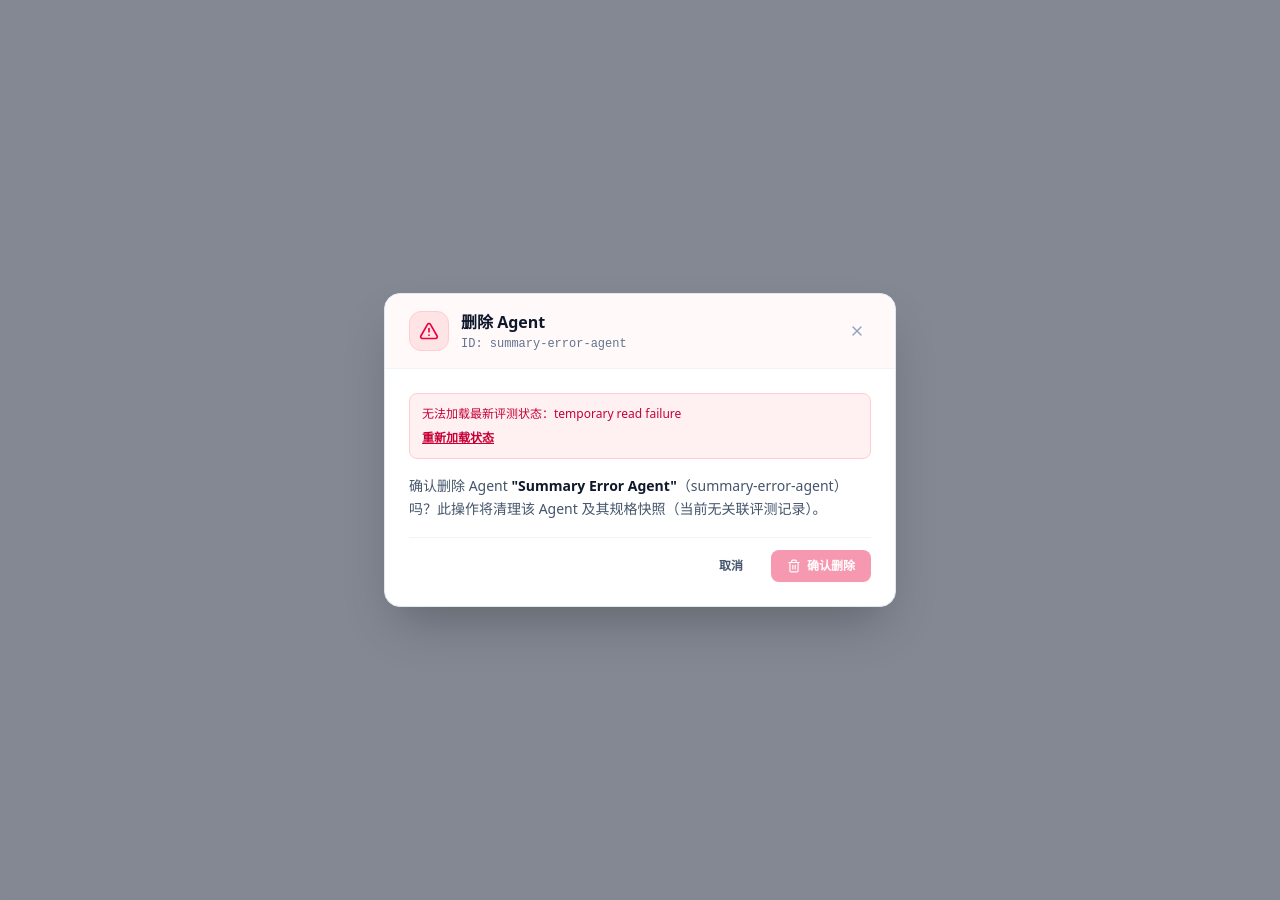
Test case: DeleteAgentModal UX and Strong Name Verification Flow › blocks deletion when the latest summary cannot be loaded and permits retry
Check: the message shows "temporary read failure", box [554,405,681,422]
Check: the button "确认删除" is disabled, box [771,550,871,582]
Click the button "重新加载状态": (458, 438) [422,430,494,446]
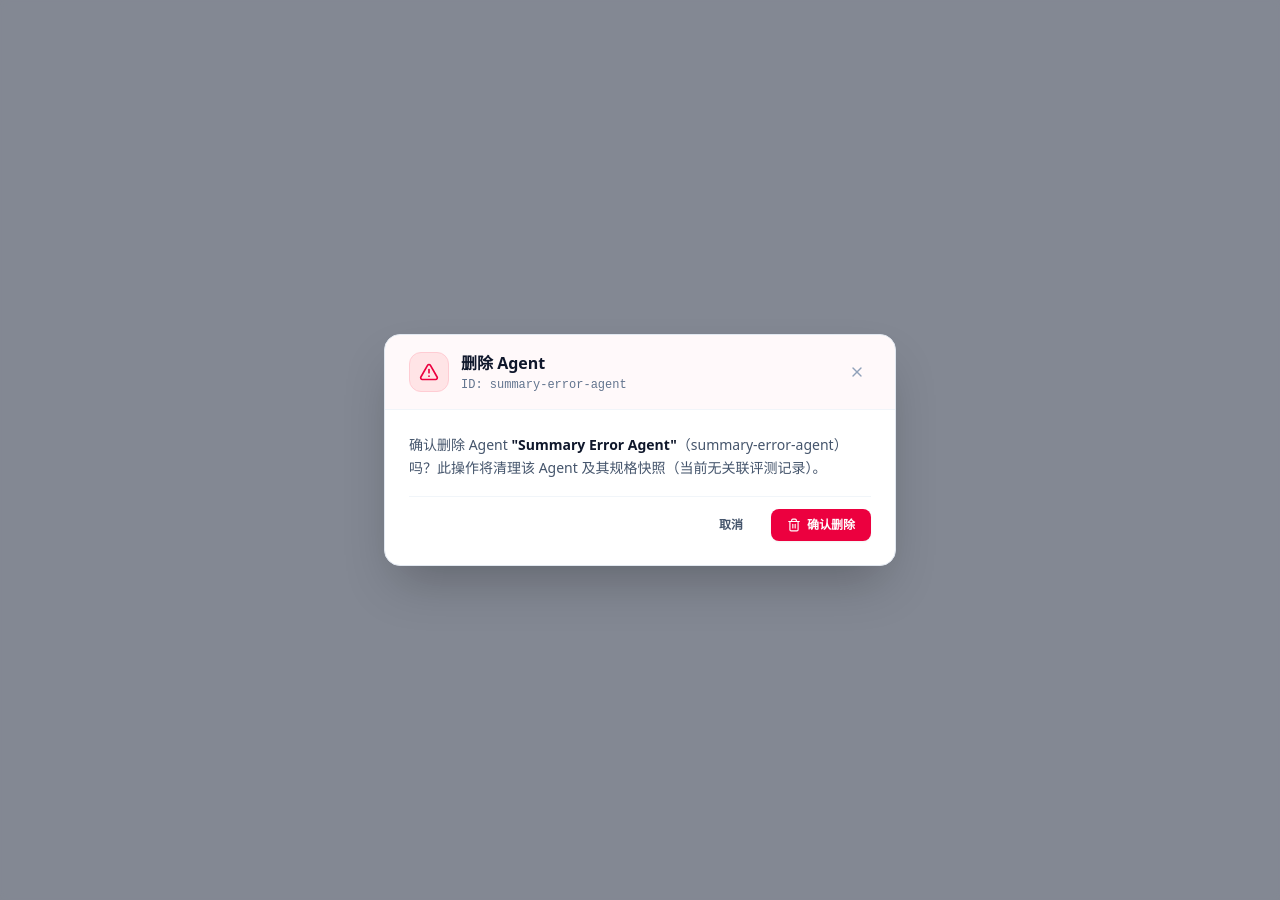
Check: the button "确认删除" is enabled, box [771,509,871,541]
